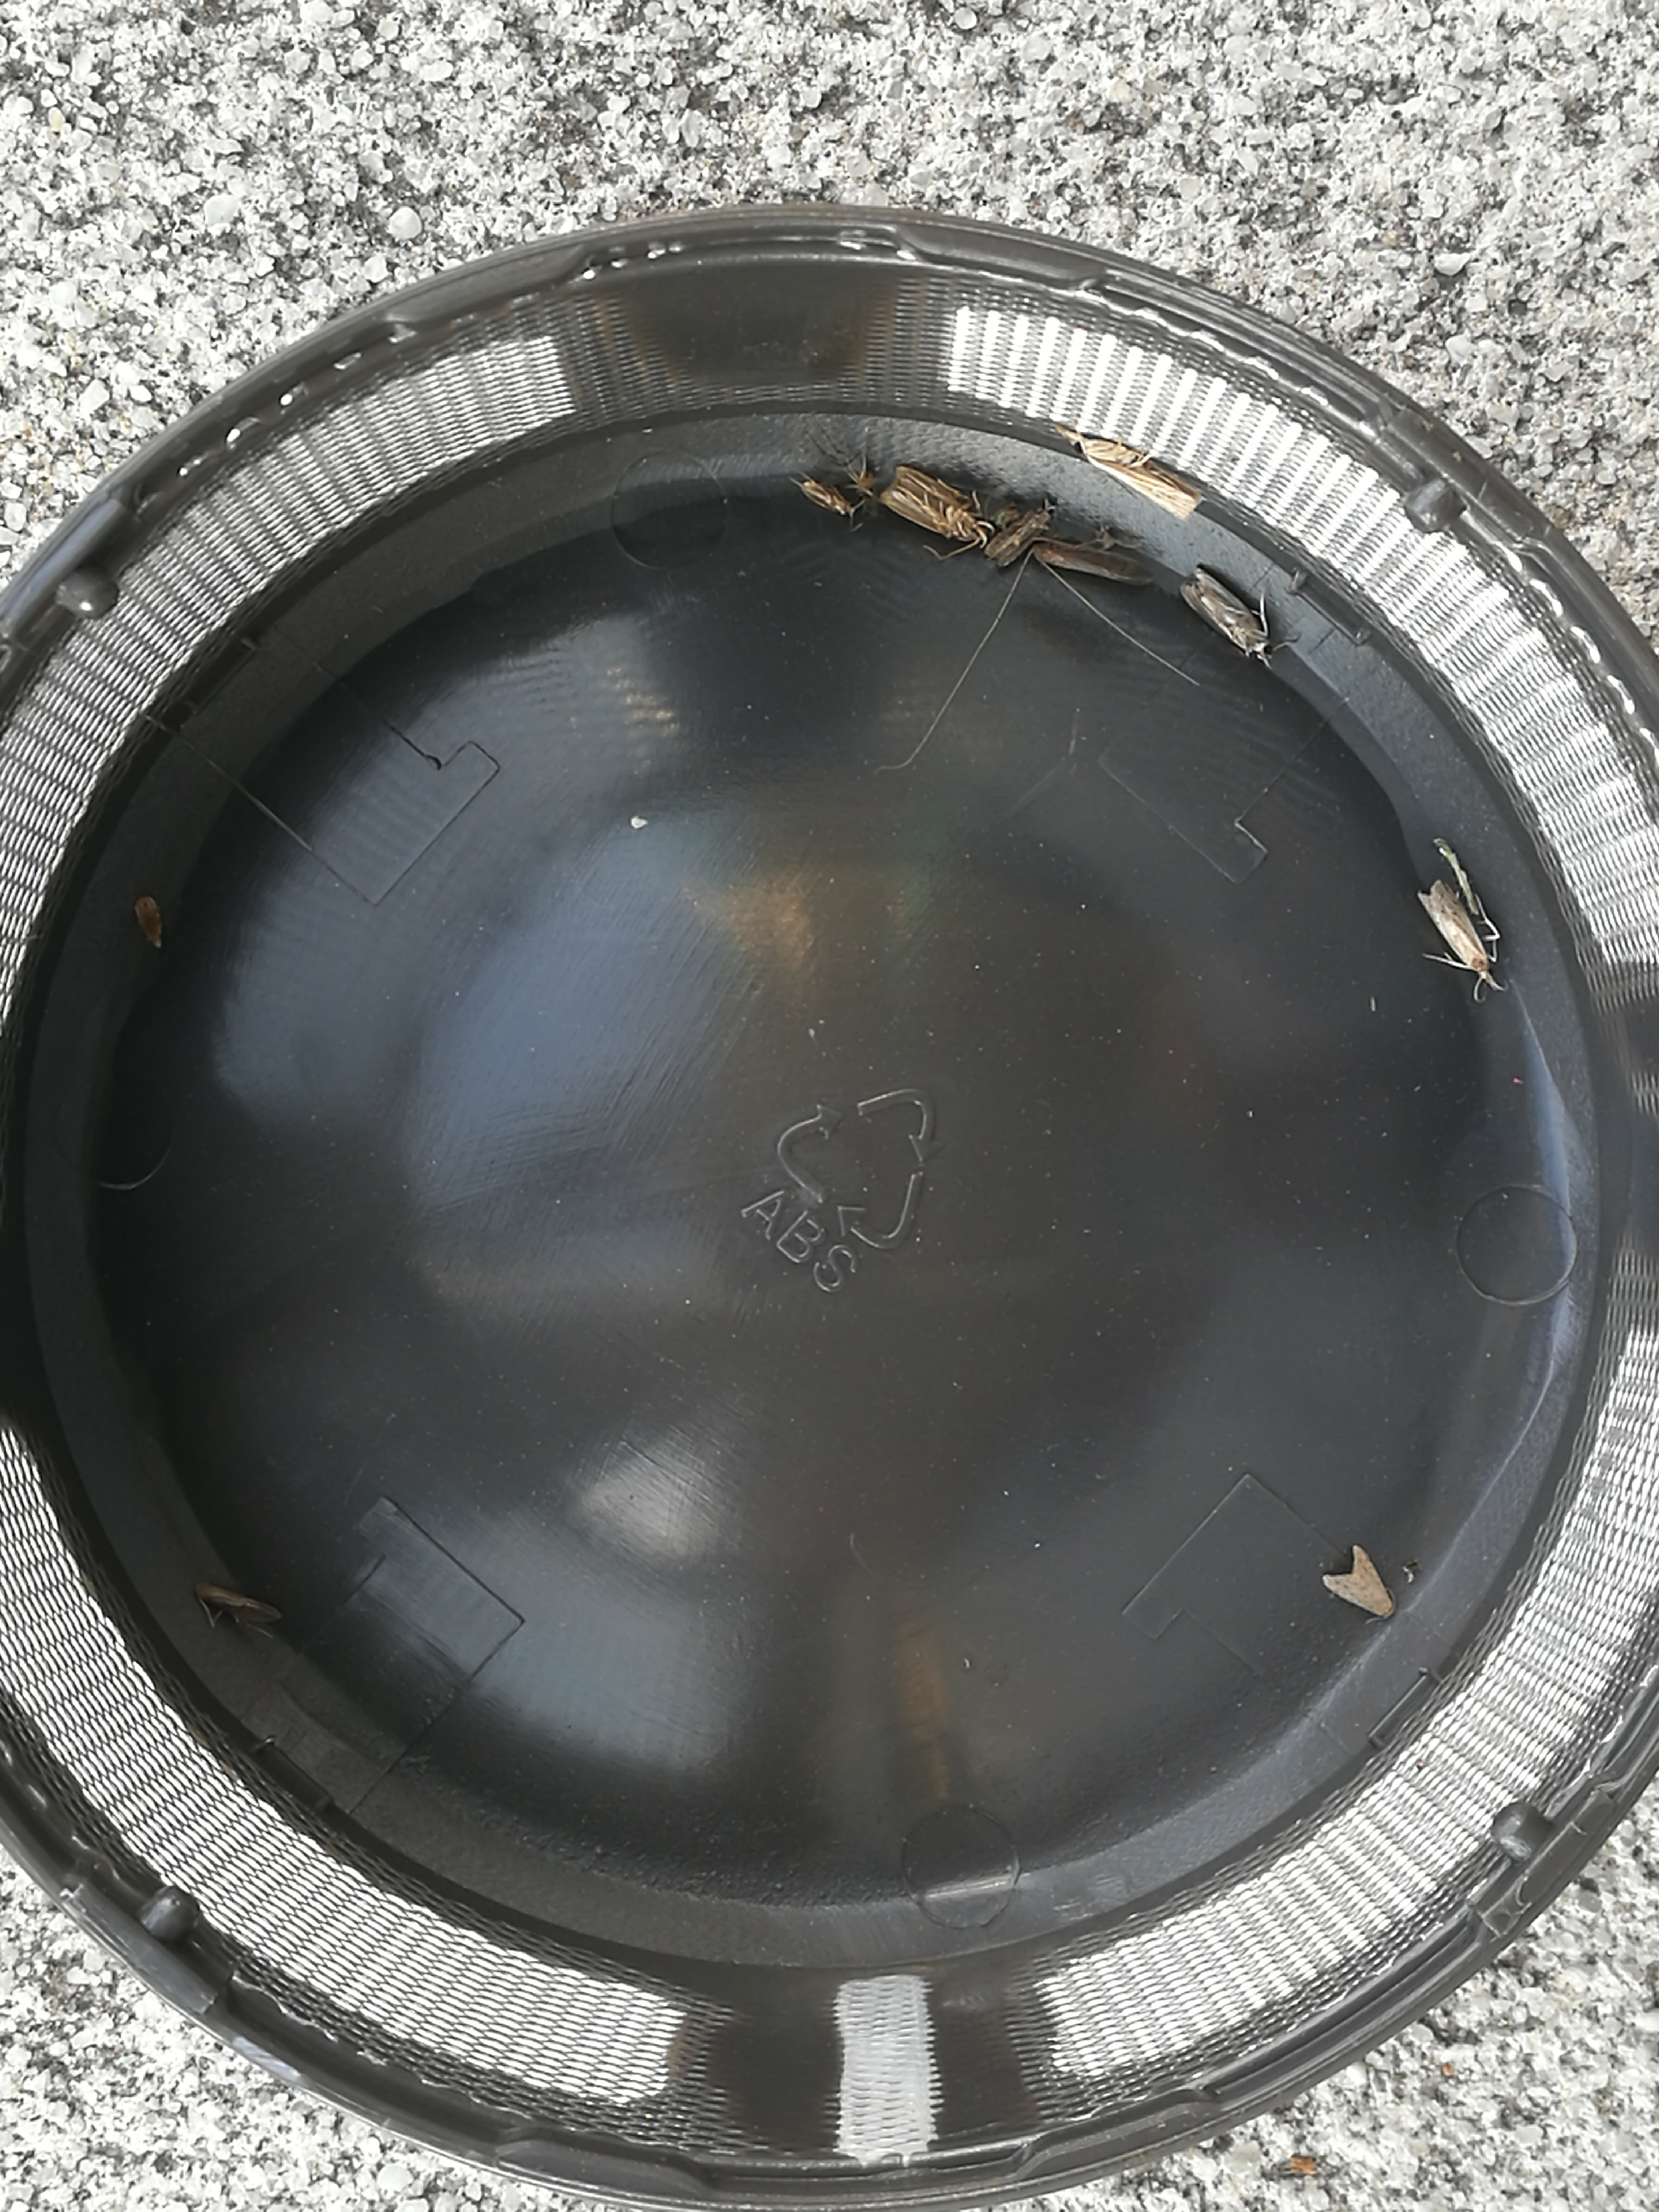mosquito: (1058, 427, 1204, 517), (1182, 568, 1270, 658), (1417, 880, 1490, 979), (1035, 540, 1152, 583), (986, 502, 1054, 566), (195, 1581, 284, 1623), (803, 482, 852, 519)
moth: (884, 467, 986, 543), (1321, 1545, 1394, 1616)
